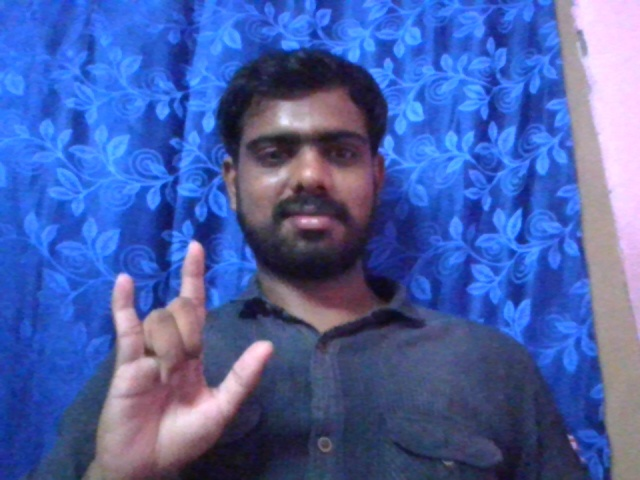IloveYou: (94, 235, 281, 475)
